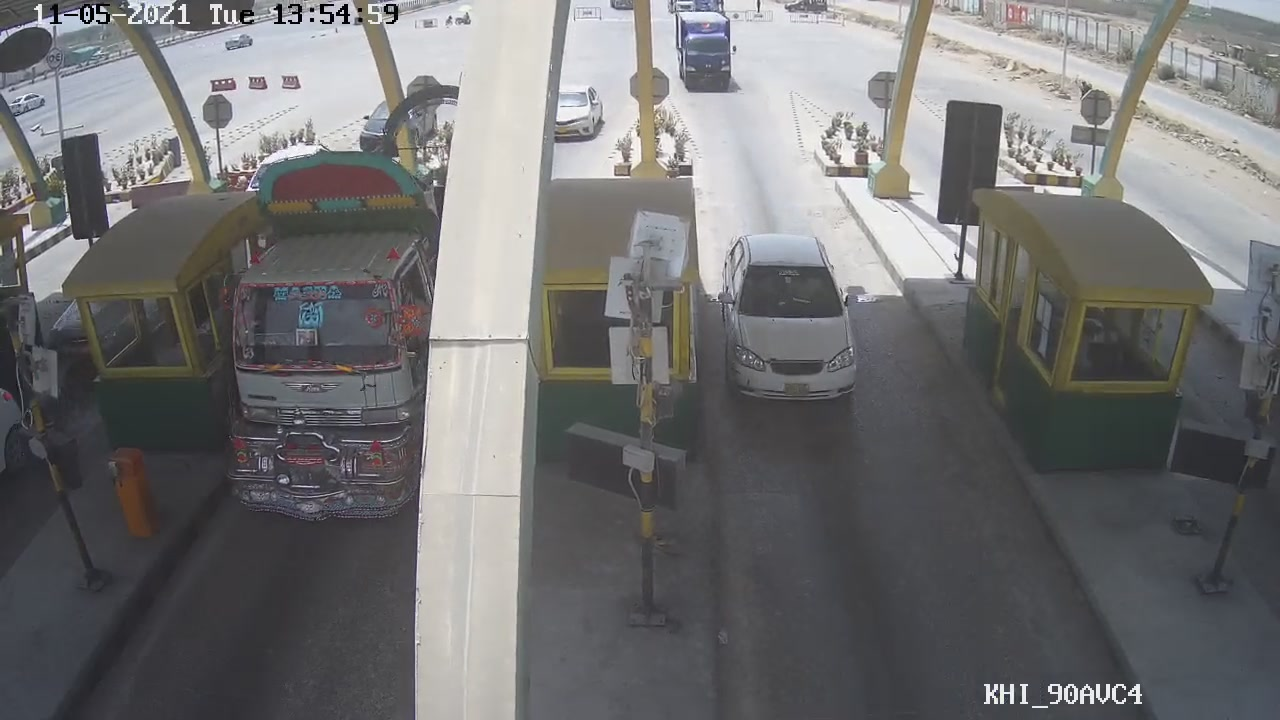F1: (712, 227, 867, 407)
